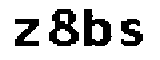8: (47, 9, 80, 49)
b: (83, 6, 113, 50)
s: (118, 17, 147, 48)
z: (11, 16, 40, 48)
